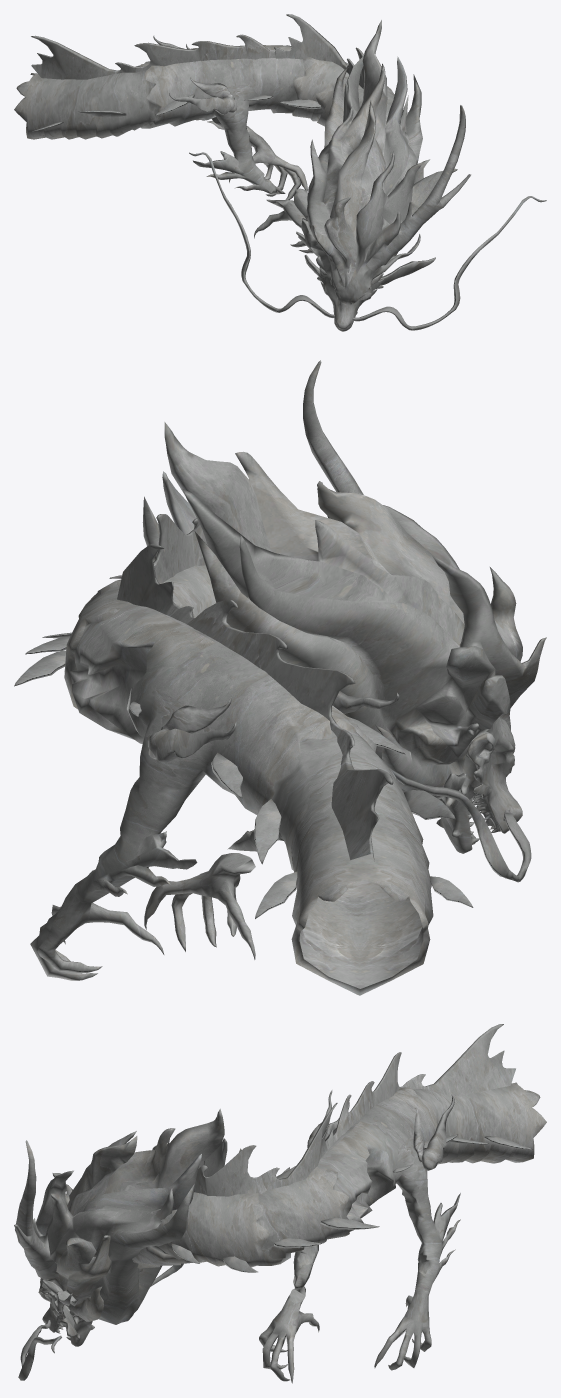
The model's file is SM_Val_Sta_02AH.fbx.
The picture shows the model from 3 angles, top to bottom: view 1: azimuth 30°, elevation 25°; view 2: azimuth 150°, elevation 25°; view 3: azimuth 270°, elevation 25°; orthographic projection. The views are drawn at different scales.
Parts seen in each view (by area): view 1: SM_Val_Sta_02AH.mo; view 2: SM_Val_Sta_02AH.mo; view 3: SM_Val_Sta_02AH.mo.
Part boxes in pixels (x1,y1,x2,y2): SM_Val_Sta_02AH.mo: (14,14,546,331); SM_Val_Sta_02AH.mo: (14,360,546,995); SM_Val_Sta_02AH.mo: (14,1024,546,1383).
Size of the model in its own units: 55.72 by 36.85 by 60.24.
